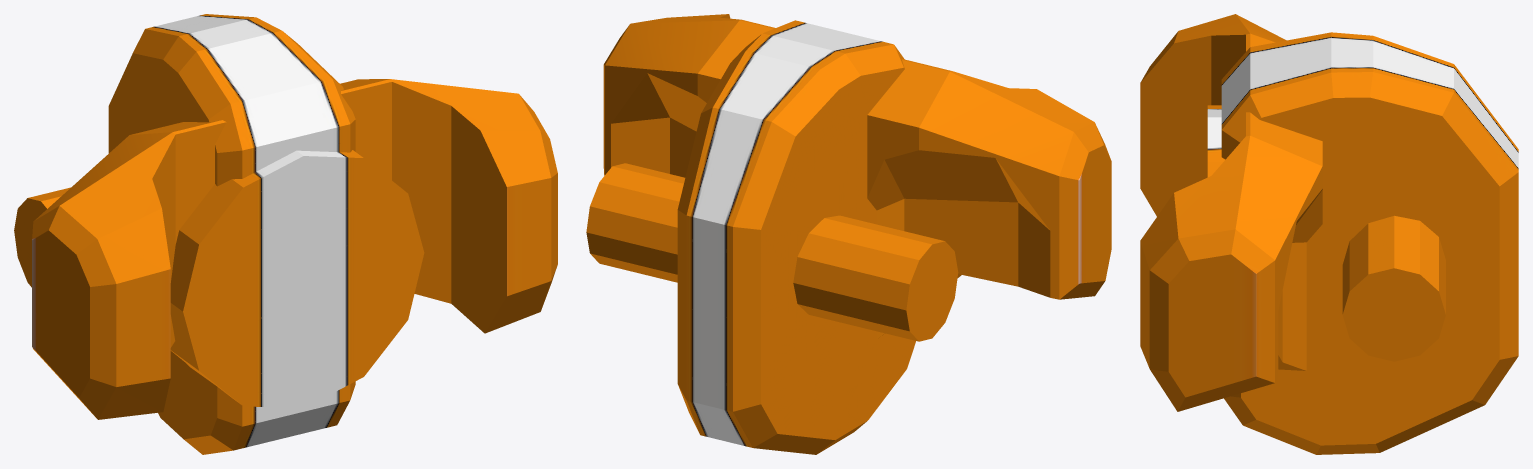
Rendered from PELVIS_S.dae.
The picture shows the model from 3 angles, left to right: view 1: azimuth 30°, elevation 25°; view 2: azimuth 150°, elevation 25°; view 3: azimuth 270°, elevation 25°; orthographic projection. The views are drawn at different scales.
Visible parts, largest first — view 1: root; view 2: root; view 3: root.
Part boxes in pixels (x1,y1,x2,y2): root: (14,14,557,454); root: (586,14,1111,454); root: (1140,14,1518,454).
Bounding box in the file's own units: 0.2858 × 0.2208 × 0.1979.
Materials: 1 (1 with a texture image).
